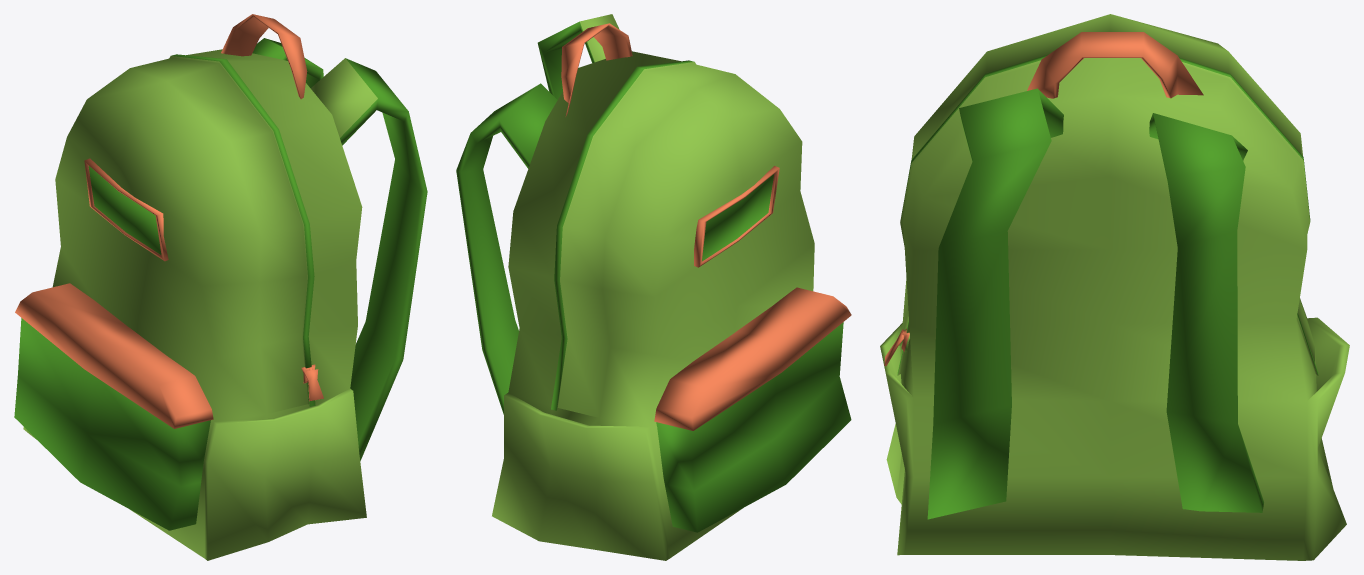
The model's file is Bag.fbx.
3 views of the same model, side by side, from view 1: azimuth 30°, elevation 25°; view 2: azimuth 150°, elevation 25°; view 3: azimuth 270°, elevation 25° (orthographic). The views are drawn at different scales.
Parts seen in each view (by area): view 1: Cube.8151; view 2: Cube.8151; view 3: Cube.8151.
Boxes of the visible parts, bbox=[...] form: Cube.8151: bbox=[14, 14, 427, 560]; Cube.8151: bbox=[456, 14, 851, 560]; Cube.8151: bbox=[880, 14, 1349, 560].
Bounding box in the file's own units: 56.1 × 83.29 × 68.67.
Materials: 1 (1 with a texture image).
